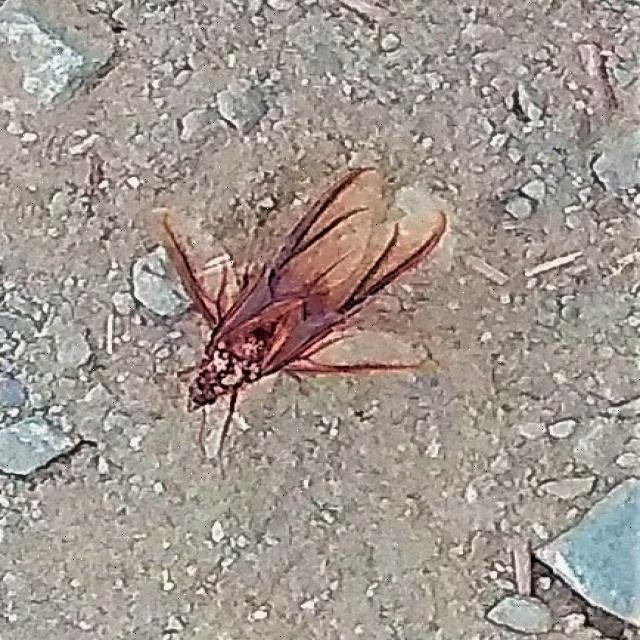Alive-Male-Alate: (162, 163, 456, 454)
